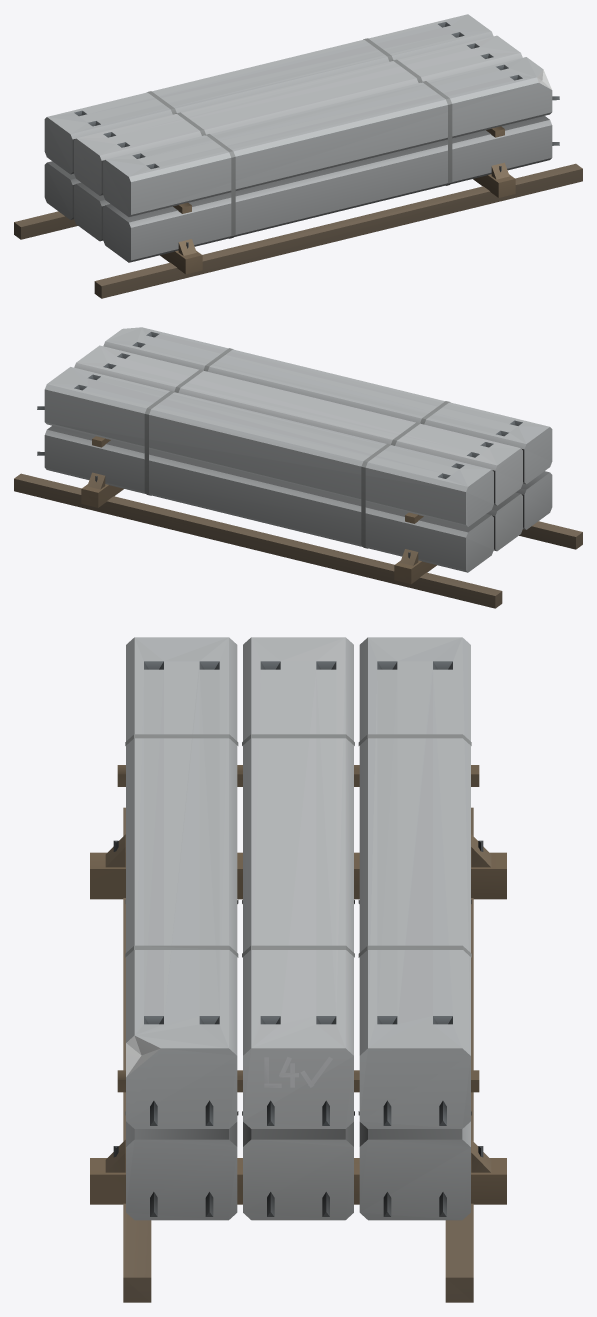
File: precast.glb
The picture shows the model from 3 angles, top to bottom: view 1: azimuth 30°, elevation 25°; view 2: azimuth 150°, elevation 25°; view 3: azimuth 270°, elevation 25°; orthographic projection. The views are drawn at different scales.
Visible parts, largest first — view 1: precast; view 2: precast; view 3: precast.
Boxes of the visible parts, x1=… form: precast: x1=14, y1=14, x2=582, y2=298; precast: x1=14, y1=327, x2=582, y2=608; precast: x1=90, y1=637, x2=506, y2=1302.
Bounding box in the file's own units: 4 × 0.896 × 1.5.
